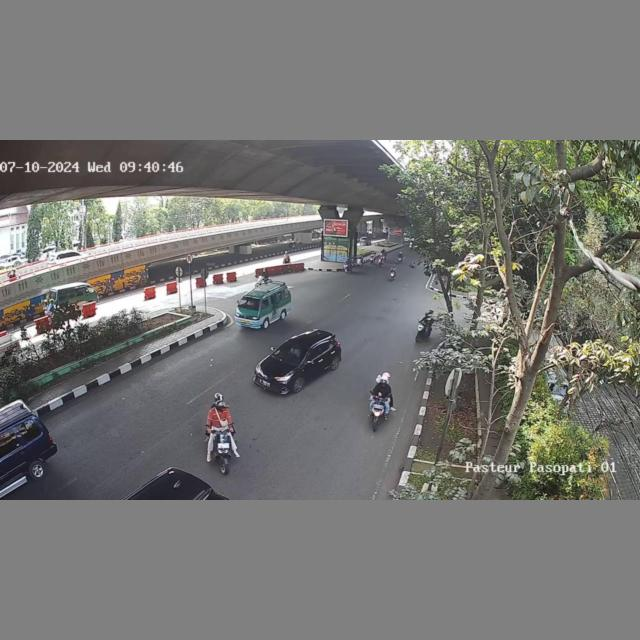windshield: (273, 341, 313, 365), (238, 297, 260, 312)
